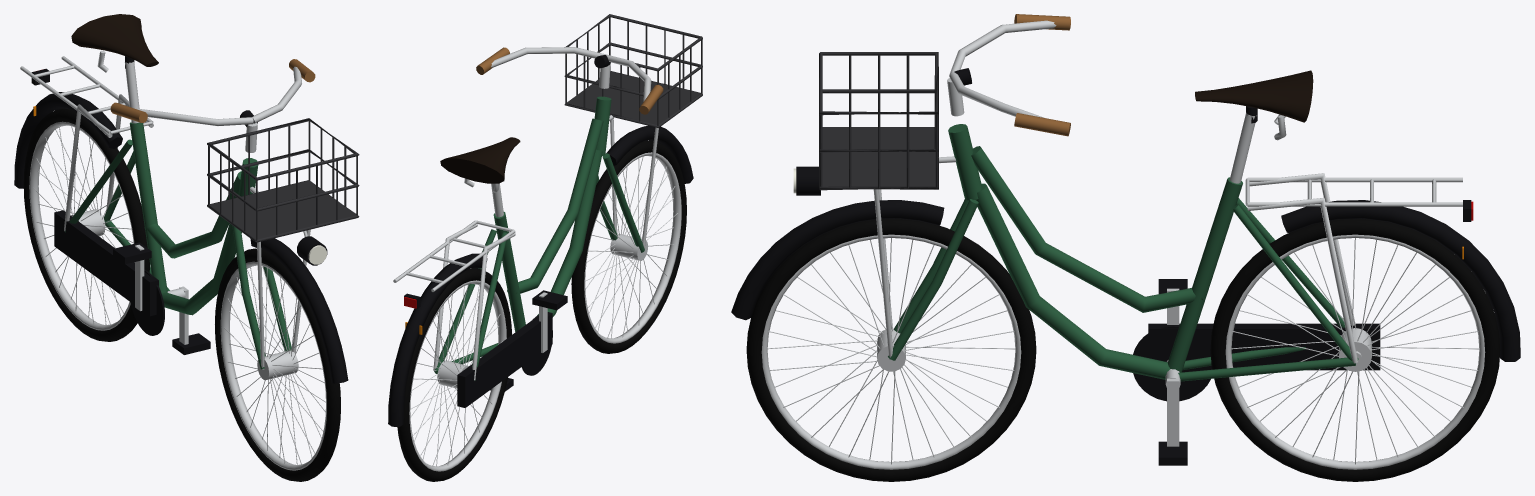
The model's file is dutch.glb.
The picture shows the model from 3 angles, left to right: view 1: azimuth 30°, elevation 25°; view 2: azimuth 150°, elevation 25°; view 3: azimuth 270°, elevation 25°; orthographic projection. The views are drawn at different scales.
Parts seen in each view (by area): view 1: frame, fork, wheel_front, wheel_rear, crank, light_front, pedal_r, pedal_l; view 2: frame, fork, wheel_front, wheel_rear, crank, pedal_r; view 3: frame, fork, wheel_front, wheel_rear, crank.
Part boxes in pixels (x1,y1,x2,y2): frame: (14, 14, 258, 316); fork: (110, 59, 359, 383); wheel_front: (215, 248, 340, 481); wheel_rear: (23, 108, 149, 341); crank: (130, 244, 188, 344); light_front: (297, 236, 327, 265); pedal_r: (113, 242, 151, 264); pedal_l: (172, 333, 210, 354); frame: (388, 96, 611, 426); fork: (476, 14, 702, 252); wheel_front: (571, 140, 686, 353); wheel_rear: (397, 268, 511, 481); crank: (512, 292, 552, 375); pedal_r: (532, 290, 567, 310); frame: (948, 70, 1520, 381); fork: (731, 14, 1070, 360); wheel_front: (746, 218, 1036, 481); wheel_rear: (1210, 218, 1500, 481); crank: (1133, 288, 1210, 446).
Size of the model in its own units: 0.6379 by 1.11 by 1.91.
